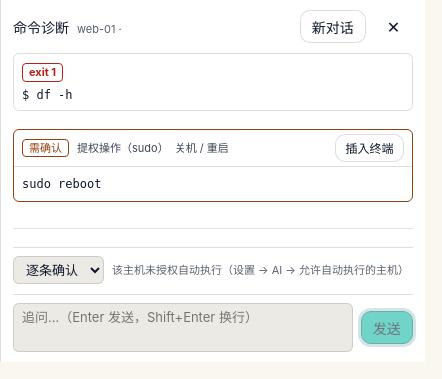
Test: 插终端三档确认状态机 › yellow：第一击确认文案，第二击才插
The image size is (442, 379).
Later steps or results of the test are not shown.
Click the button with test id "ai-insert".
click(369, 148)  # box top-left (335, 134), bottom-right (404, 162)
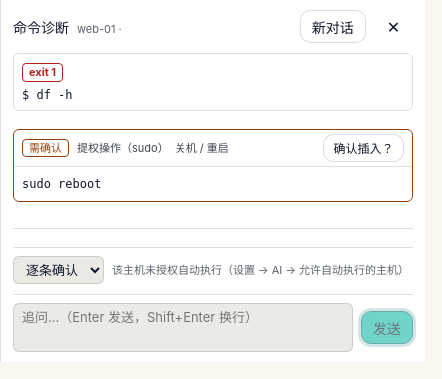
Result: the button with test id "ai-insert" has attribute data-stage="confirm" at top-left (323, 134), bottom-right (404, 162)
